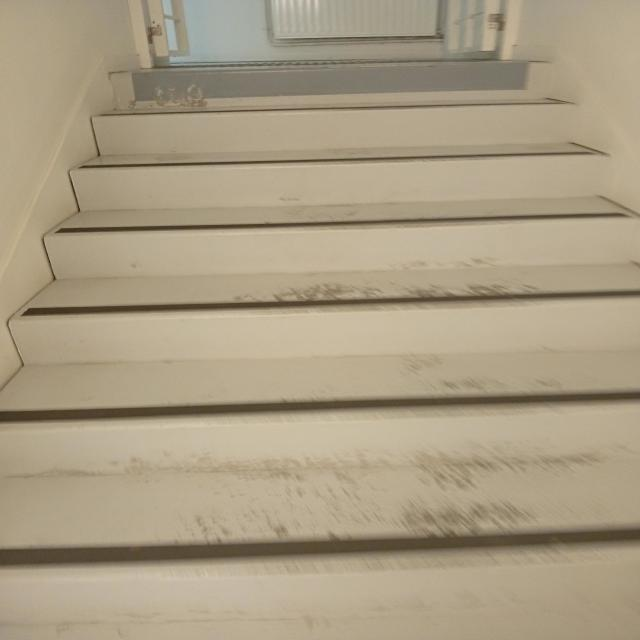Stairs: (34, 53, 637, 277)
